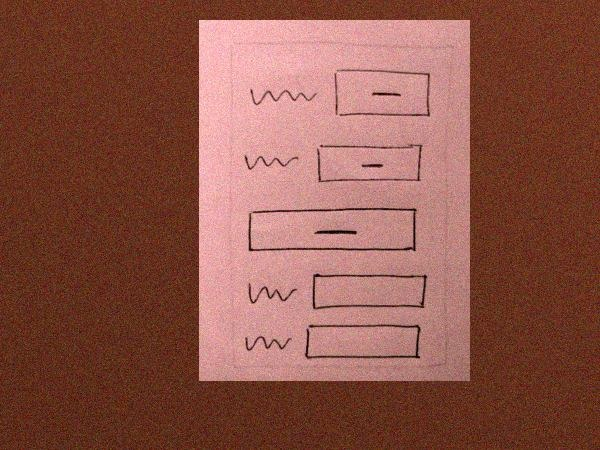button: (244, 206, 421, 259), (330, 65, 434, 122), (315, 141, 425, 188)
text: (245, 81, 320, 114), (238, 144, 313, 177), (239, 277, 306, 309), (236, 326, 303, 358)
text_input: (308, 270, 432, 314), (302, 321, 426, 365)
